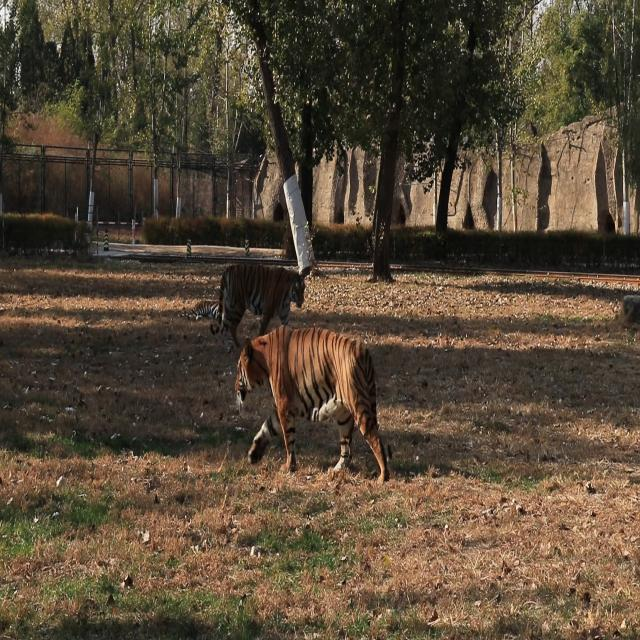Tiger: (234, 321, 406, 499), (210, 256, 314, 346)
